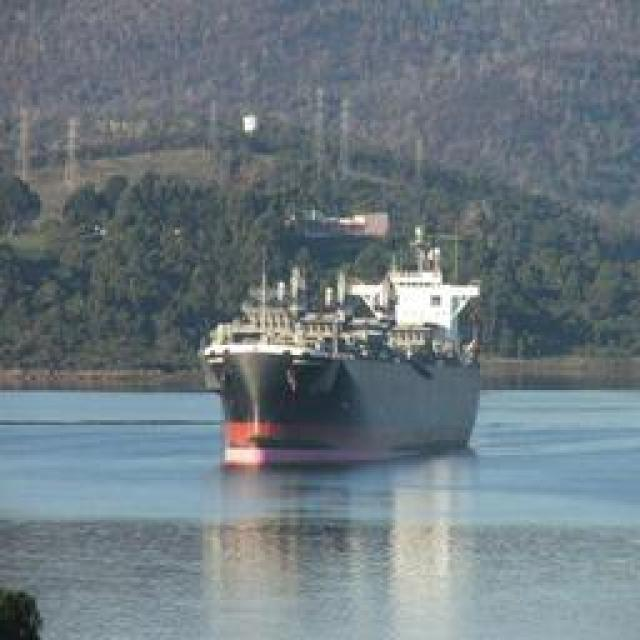CIV_Ship: (202, 208, 482, 472)
